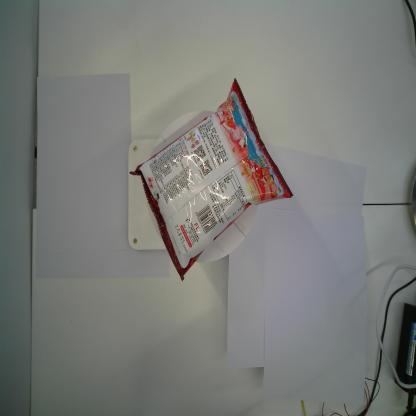Puffed Food: (130, 78, 293, 282)
